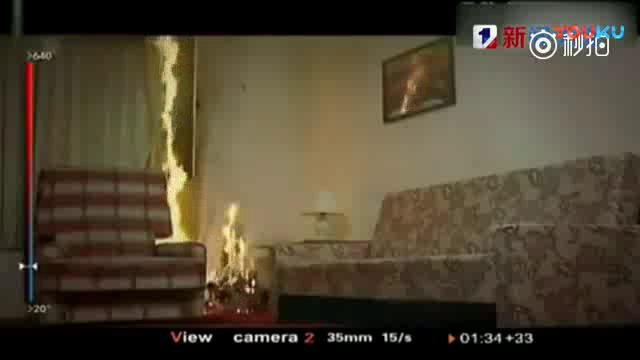fire: (155, 38, 196, 244), (211, 201, 259, 291)
